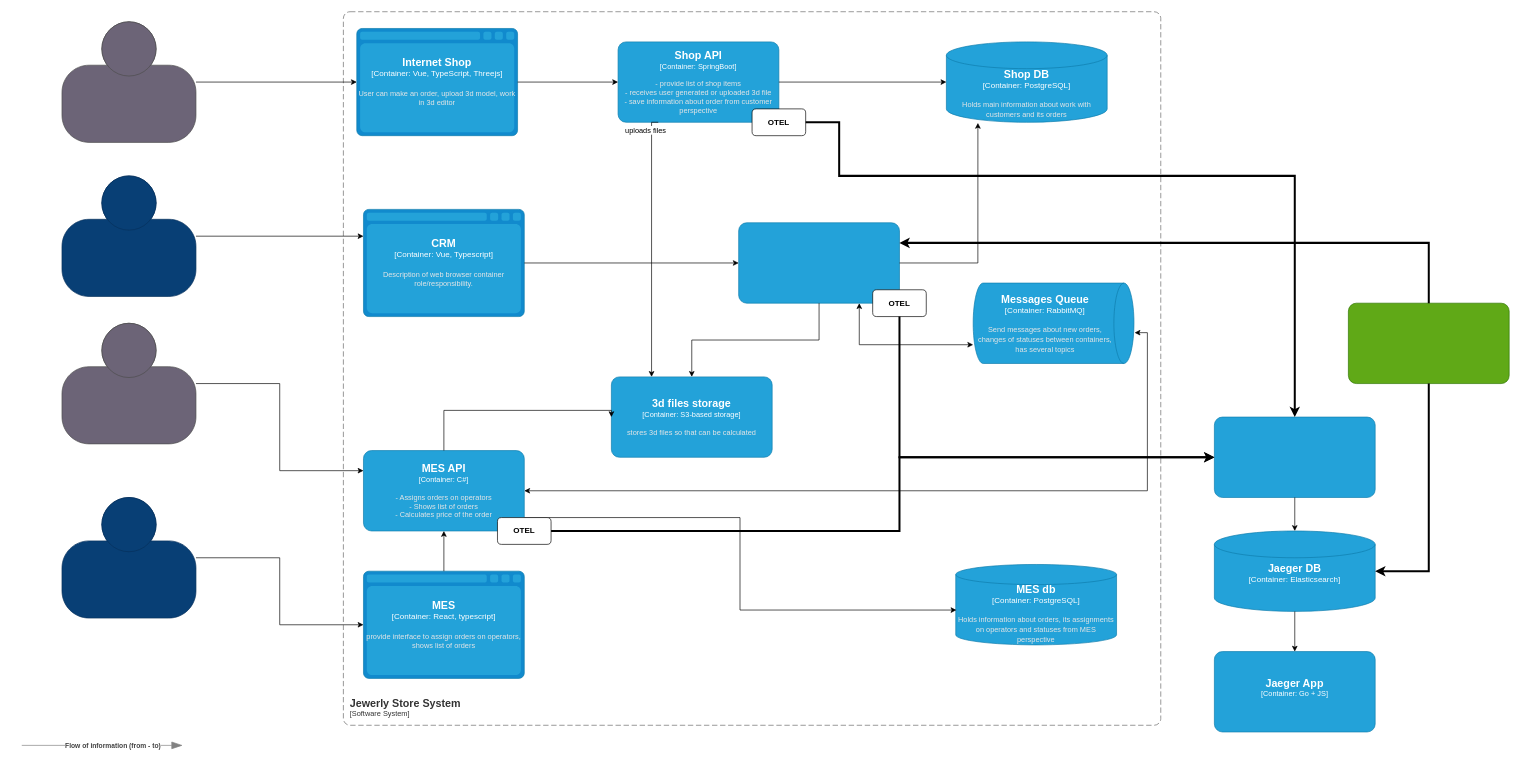
The diagram is 1521 pixels wide and 768 high, and some of its shapes have lost their labels. The shapes that lost their labels are listed below. From the top down, each one's box as (x1, y1, x2, y2) in pixels, then its label:
(61, 21, 196, 142): Customer [Person] Description of external person.
(61, 175, 196, 296): Seller [Person] Operates with order, confirms manufacturing for the user
(738, 222, 899, 303): CRM API [Container: SpringBoot] Description of container role/responsibility.
(1348, 303, 1509, 384): Alerting service [Container: Flink]
(61, 323, 196, 444): API user [Person] Description of external person.
(1214, 416, 1375, 497): Jaeger collector [Container: Go]
(61, 497, 196, 618): Operator [Person] Takes order in work, manufactures jewerly
